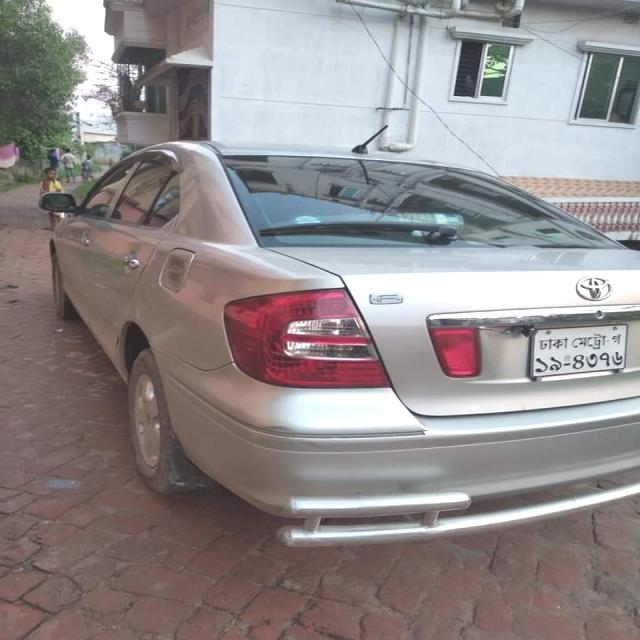silver: (42, 142, 640, 548)
